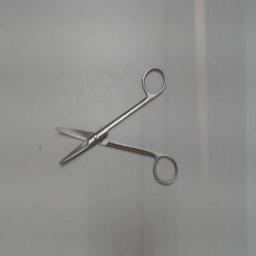Curved Mayo Scissors: (49, 62, 181, 190)
